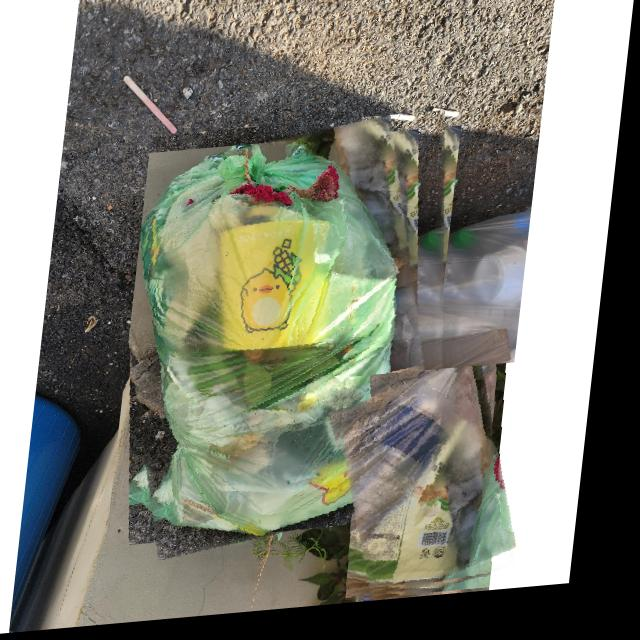general_trashbag: (140, 122, 456, 564)
other_trashbag: (352, 375, 530, 606)
